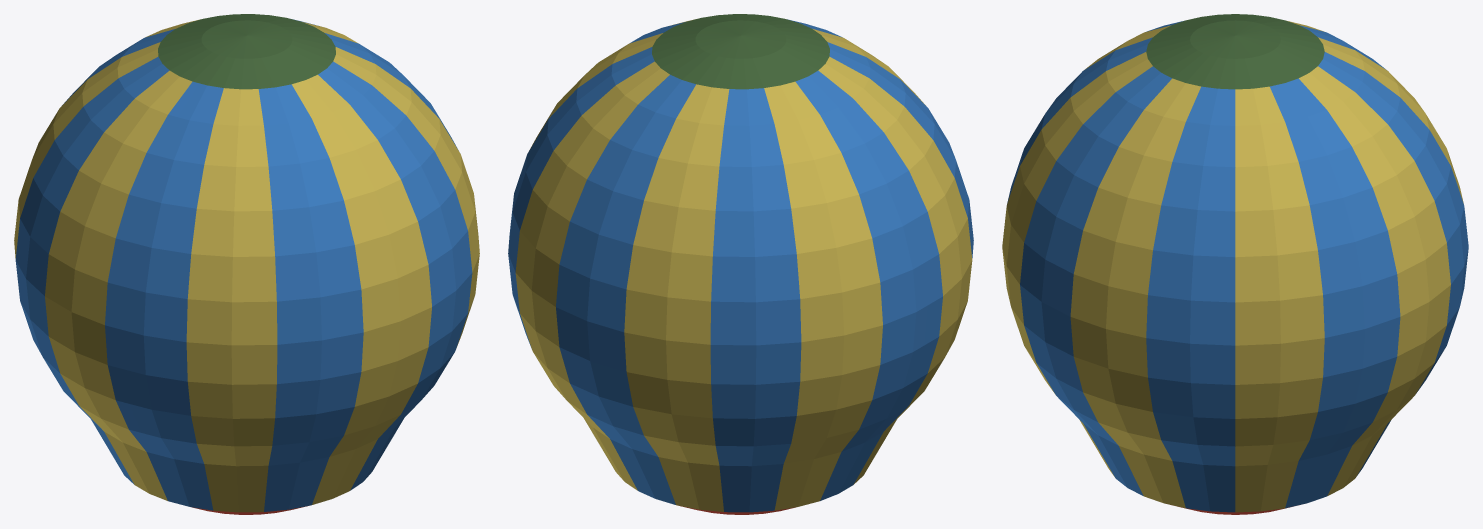
File: Super_ShellS_Ball_10_Y&B.fbx
3 views of the same model, side by side, from view 1: azimuth 30°, elevation 25°; view 2: azimuth 150°, elevation 25°; view 3: azimuth 270°, elevation 25° (orthographic).
Parts seen in each view (by area): view 1: Sphere; view 2: Sphere; view 3: Sphere.
Boxes of the visible parts, x1,y1,x2,y2 form: Sphere: (14,14,479,514); Sphere: (508,14,973,514); Sphere: (1002,14,1468,514).
Bounding box in the file's own units: 35 × 37.88 × 35.
Materials: 1 (1 with a texture image).
